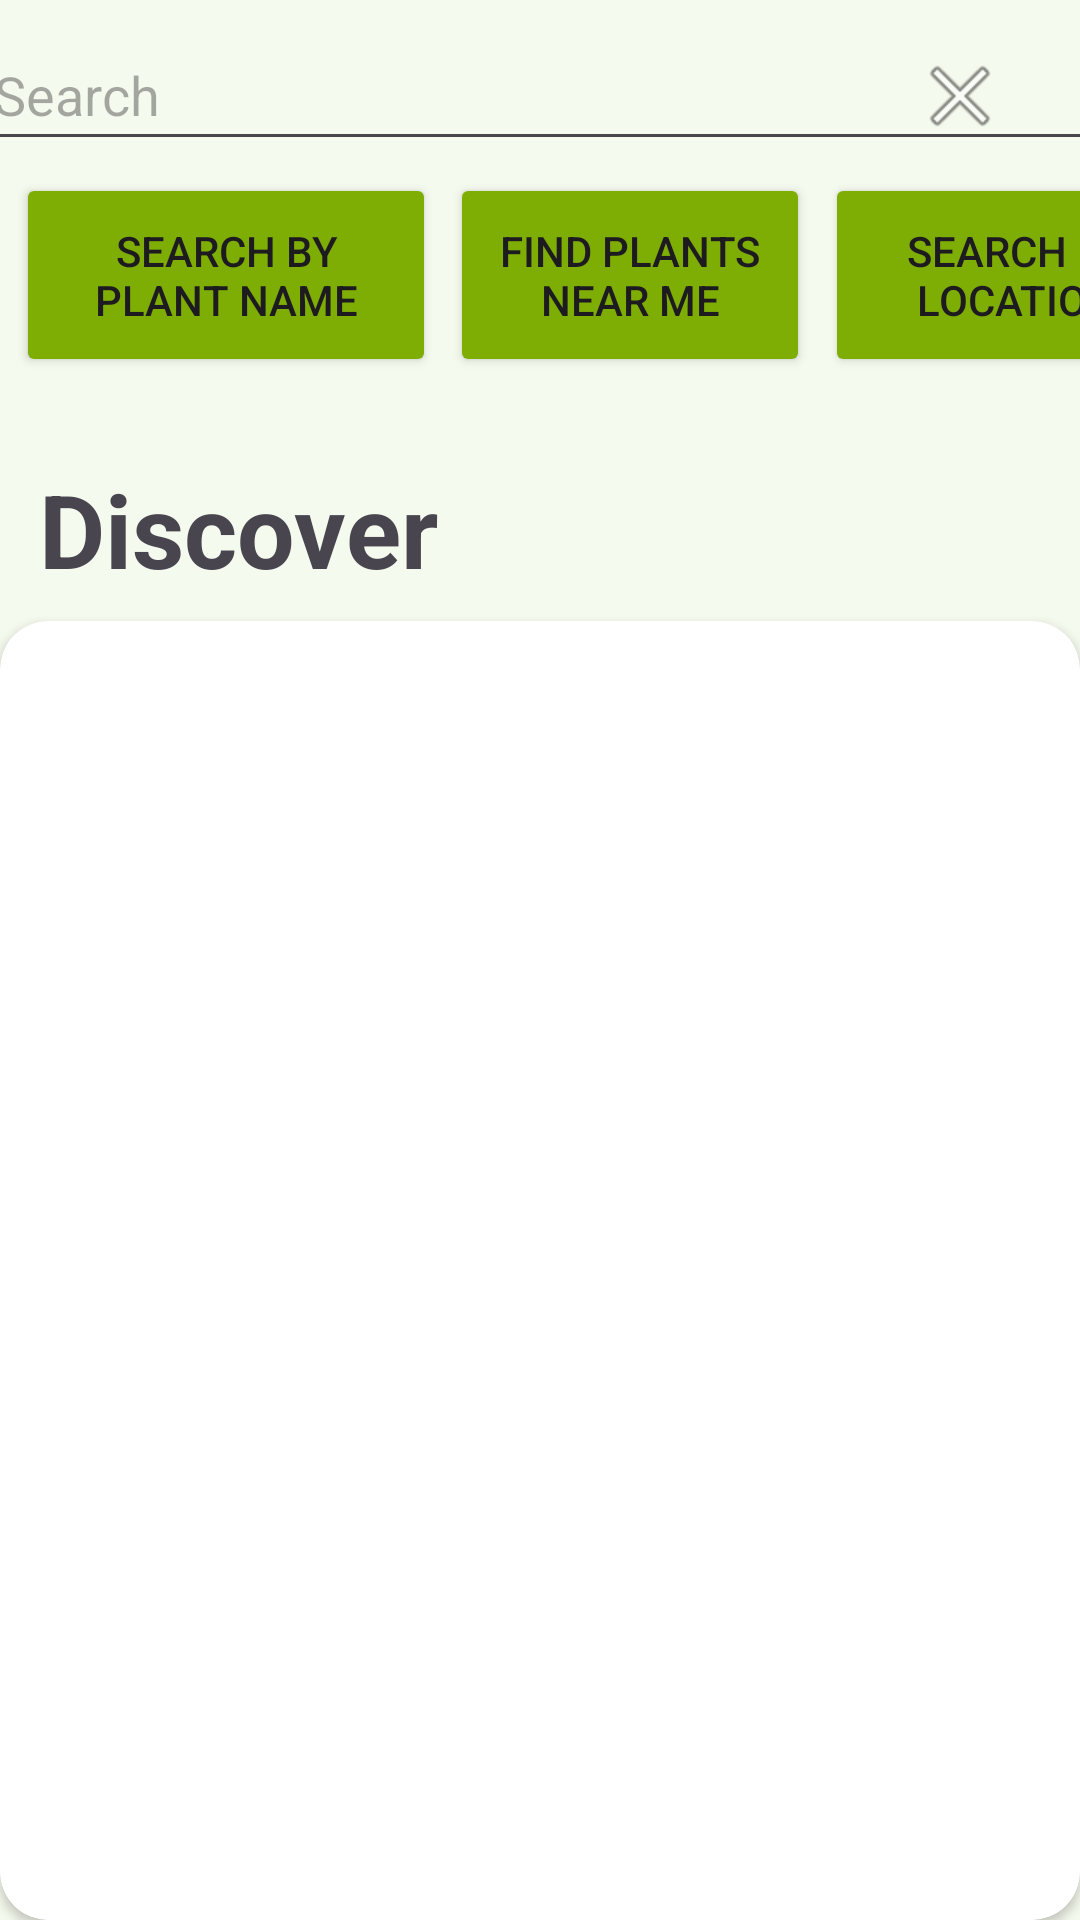

Icon click points for this 1080 × 1920 phone screenshot, format (x,y):
close clear cancel: (960,96)
